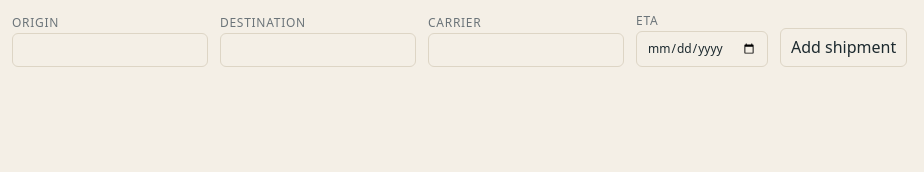
AddShipmentForm › clears all fields after a successful add
The width and height of the screenshot is (924, 172).
In the field labelled "Origin": x=110, y=50 12,33 -> 208,67, type "Shanghai"
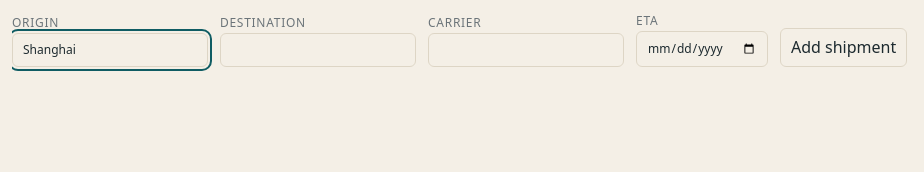
In the field labelled "Destination": x=318, y=50 220,33 -> 416,67, type "Rotterdam"
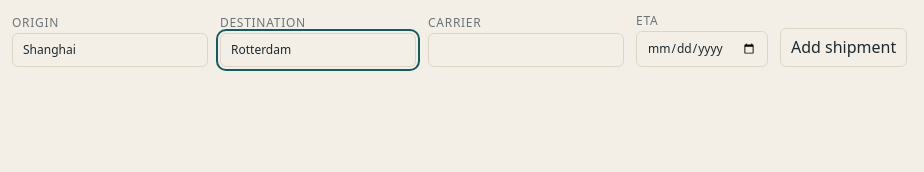
In the field labelled "Carrier": x=526, y=50 428,33 -> 624,67, type "DHL"
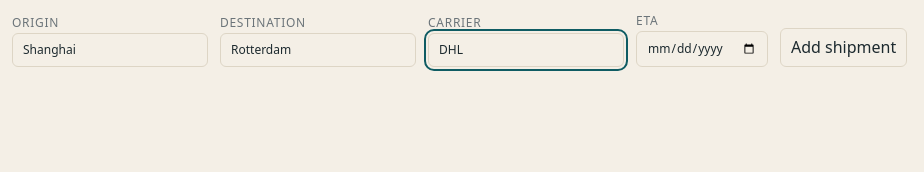
In the date field labelled "ETA": x=702, y=49 636,31 -> 768,67, type "2026-11-20"
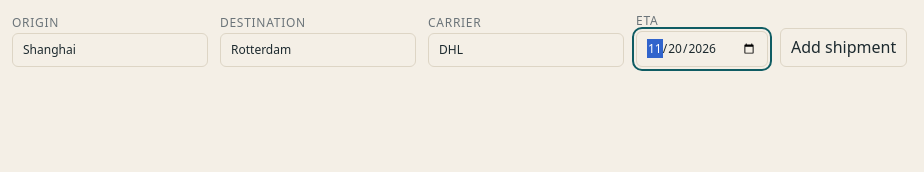
Click the button "Add shipment": x=844, y=47 780,28 -> 907,67
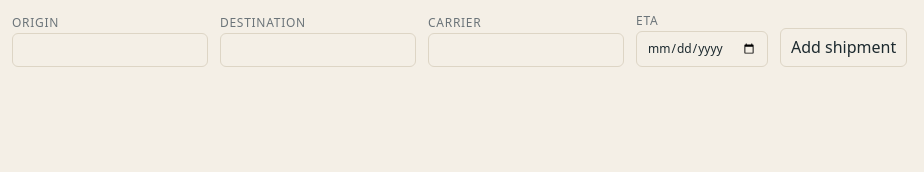
Expected: the field labelled "Origin" is empty, 12,33 -> 208,67
Expected: the field labelled "Destination" is empty, 220,33 -> 416,67
Expected: the field labelled "Carrier" is empty, 428,33 -> 624,67
